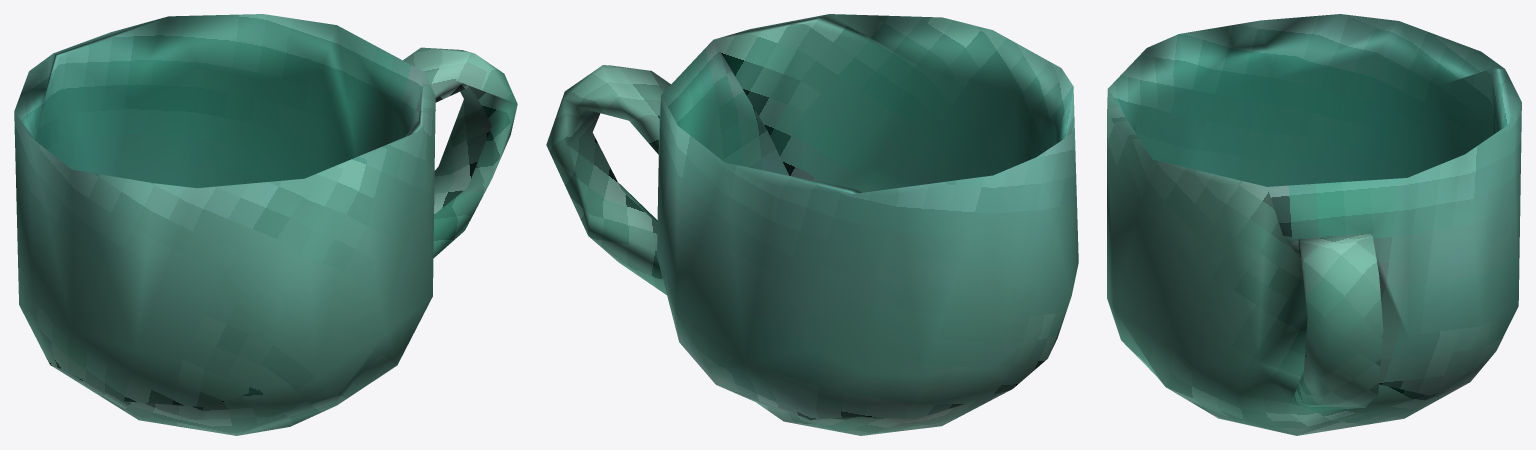
Rendered from Cole_Hardware_Mug_Classic_Blue-low.glb.
3 views of the same model, side by side, from view 1: azimuth 30°, elevation 25°; view 2: azimuth 150°, elevation 25°; view 3: azimuth 270°, elevation 25° (orthographic).
Visible parts, largest first — view 1: Cole_Hardware_Mug_Classic_Blue; view 2: Cole_Hardware_Mug_Classic_Blue; view 3: Cole_Hardware_Mug_Classic_Blue.
Part boxes in pixels (x1,y1,x2,y2): Cole_Hardware_Mug_Classic_Blue: [14, 14, 517, 435]; Cole_Hardware_Mug_Classic_Blue: [546, 14, 1078, 435]; Cole_Hardware_Mug_Classic_Blue: [1107, 14, 1521, 435].
Bounding box in the file's own units: 0.1625 × 0.0945 × 0.1224.
Materials: 1 (1 with a texture image).
